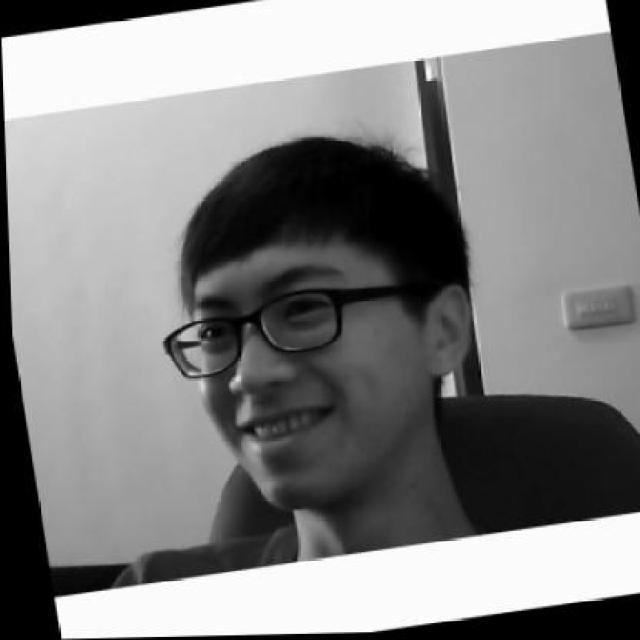attentif: (128, 116, 494, 527)
